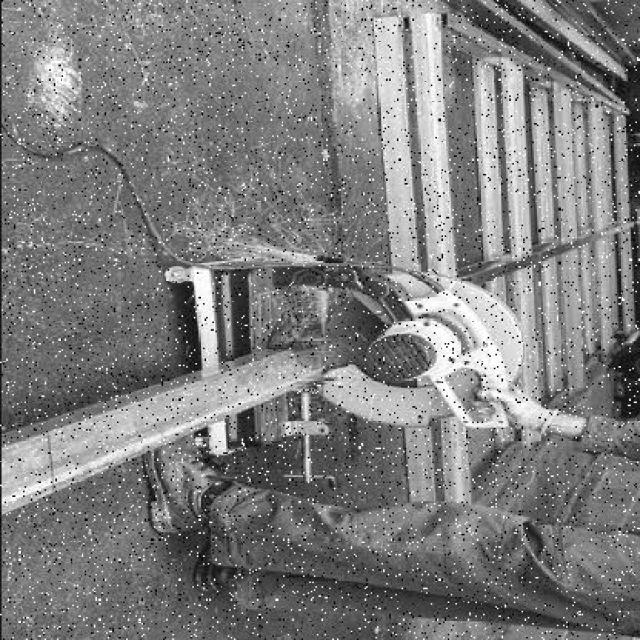shoes: (132, 425, 231, 540)
